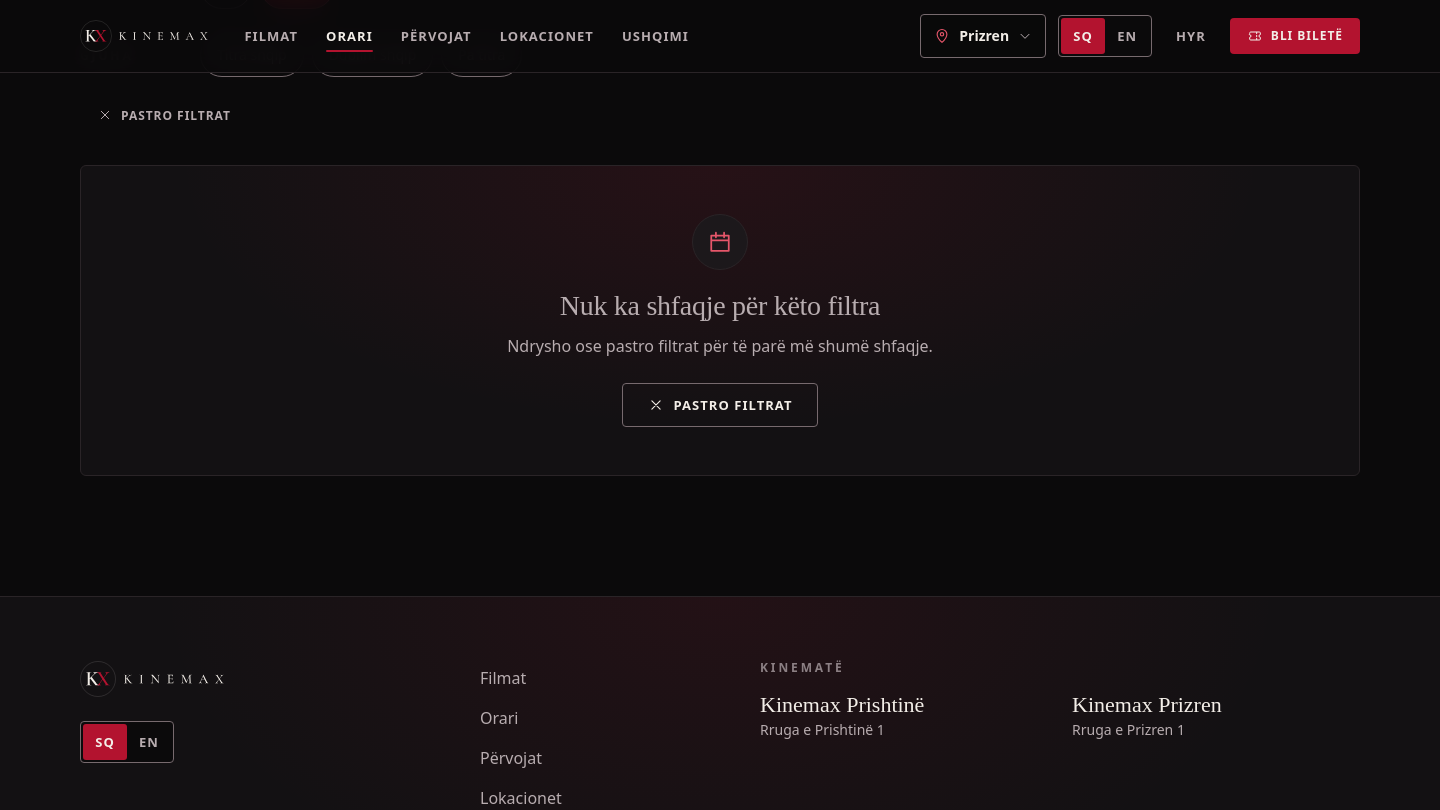
Test: SchedulePage › shows an empty state with "clear filters" when filters match nothing
(page scrolled)
Expected: the heading "Nuk ka shfaqje për këto filtra" is shown, [560, 290, 880, 322]
Click the button "Pastro filtrat" below "Nuk ka shfaqje për këto filtra": (720, 405) [622, 383, 818, 427]
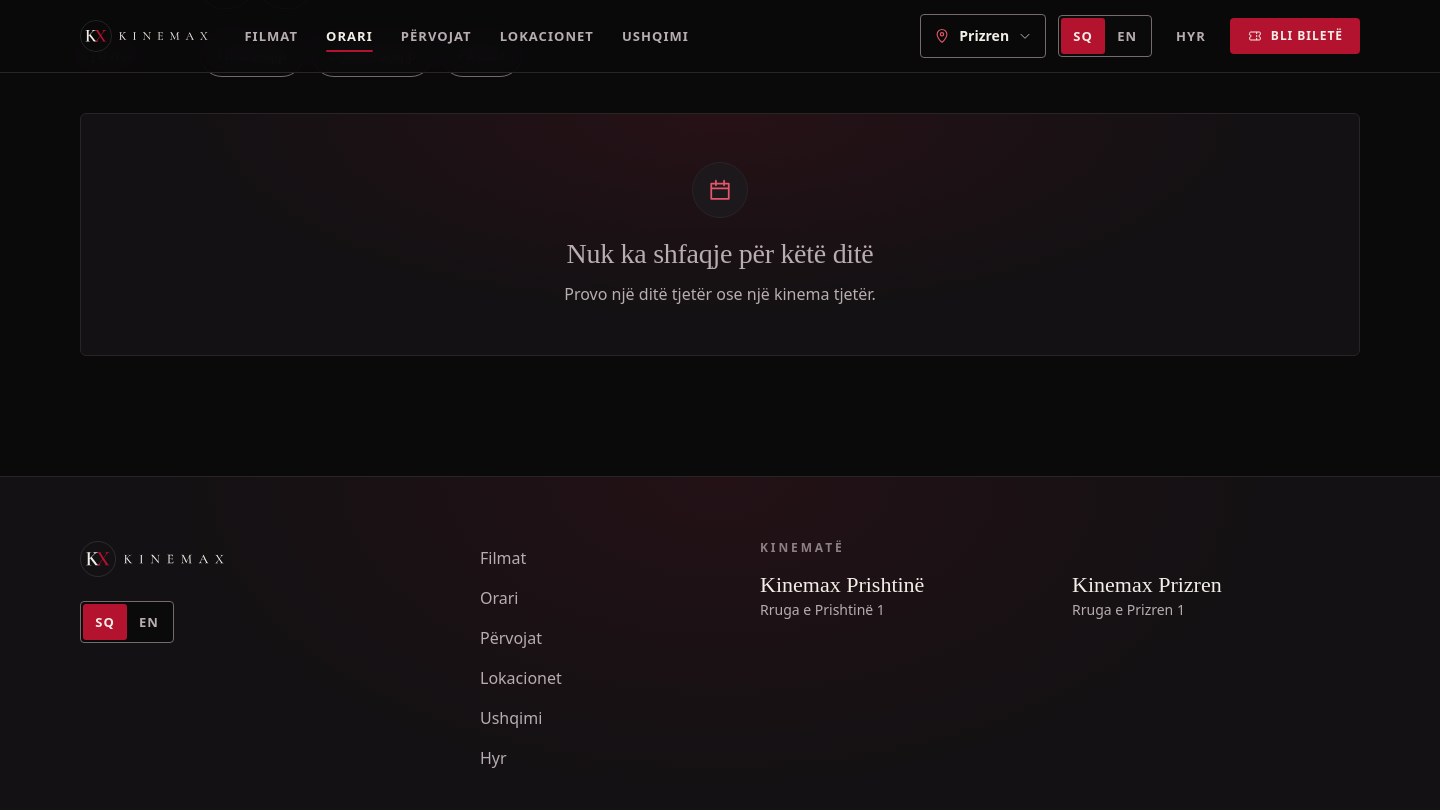
Now the heading "Nuk ka shfaqje për këtë ditë" is shown, box [566, 238, 874, 270]
Now the button "Pastro filtrat" is gone
